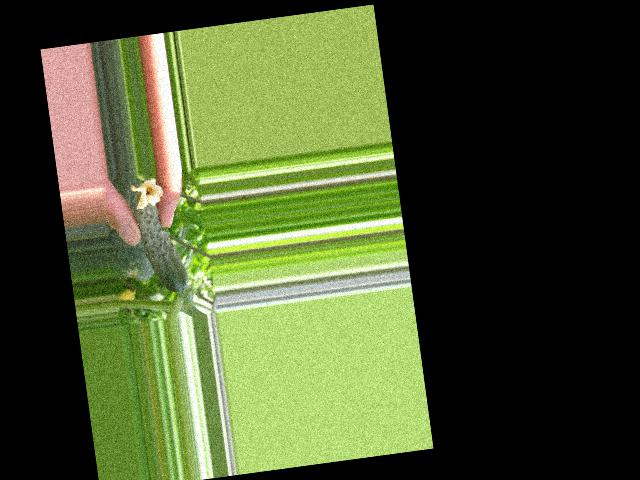cucumber: (129, 176, 189, 297)
